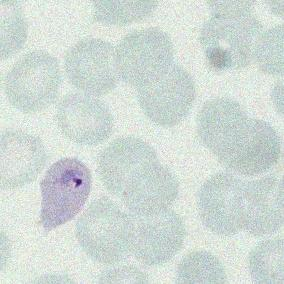Infected: (193, 49, 243, 124)
Uninfected: (148, 21, 210, 89), (99, 16, 158, 81), (3, 108, 70, 165), (90, 158, 150, 220), (222, 171, 278, 233), (19, 214, 82, 269), (111, 195, 167, 255), (127, 90, 184, 148), (171, 137, 230, 193), (163, 190, 222, 246), (33, 126, 87, 187), (36, 46, 86, 111), (105, 71, 161, 119), (0, 48, 46, 106), (238, 96, 284, 154)
